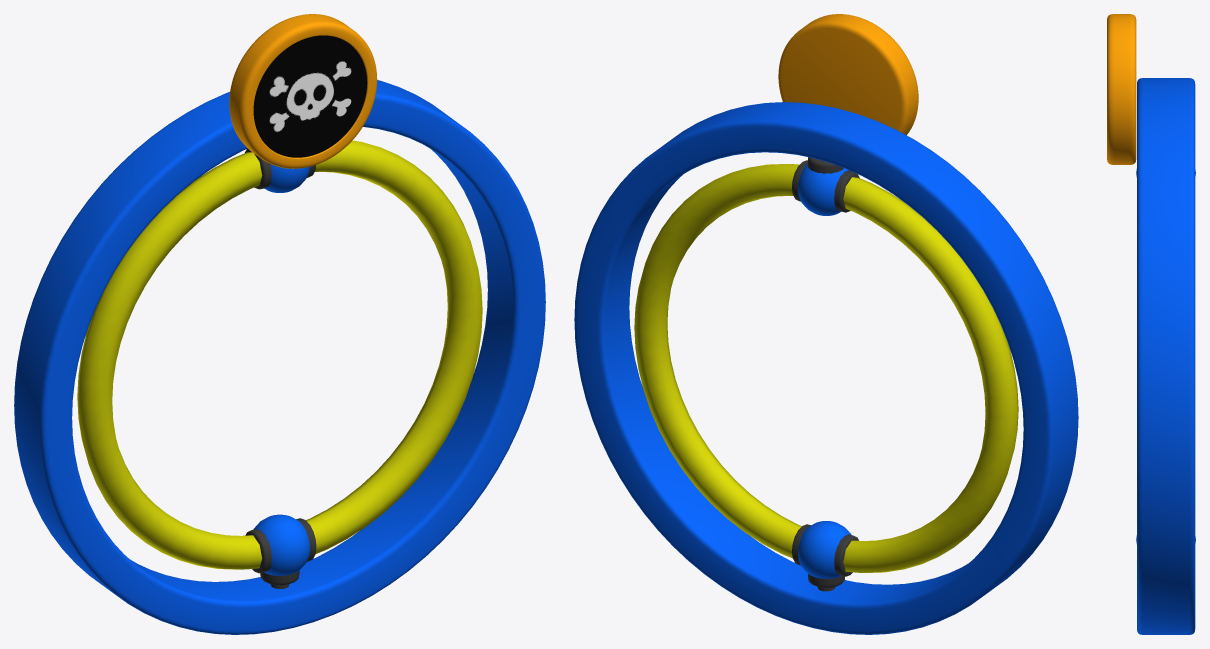
Rendered from Barrier_3.FBX.
The picture shows the model from 3 angles, left to right: view 1: azimuth 30°, elevation 25°; view 2: azimuth 150°, elevation 25°; view 3: azimuth 270°, elevation 25°; orthographic projection. The views are drawn at different scales.
Visible parts, largest first — view 1: Barrier_3, Barrier_Beam_2, Barrier_Beam_1, Barrier_Sign, Barrier_Rotor; view 2: Barrier_3, Barrier_Beam_2, Barrier_Beam_1, Barrier_Sign, Barrier_Rotor; view 3: Barrier_3, Barrier_Sign.
Part boxes in pixels (<box>): Barrier_3: <box>14,80,545,634</box>; Barrier_Beam_2: <box>77,152,262,569</box>; Barrier_Beam_1: <box>306,140,482,553</box>; Barrier_Sign: <box>229,14,377,168</box>; Barrier_Rotor: <box>245,148,316,588</box>; Barrier_3: <box>574,102,1078,634</box>; Barrier_Beam_2: <box>843,177,1018,572</box>; Barrier_Beam_1: <box>634,164,801,558</box>; Barrier_Sign: <box>778,14,918,135</box>; Barrier_Rotor: <box>792,157,859,591</box>; Barrier_3: <box>1137,78,1195,634</box>; Barrier_Sign: <box>1107,14,1136,164</box>.
Bounding box in the file's own units: 5356 × 6236 × 855.
